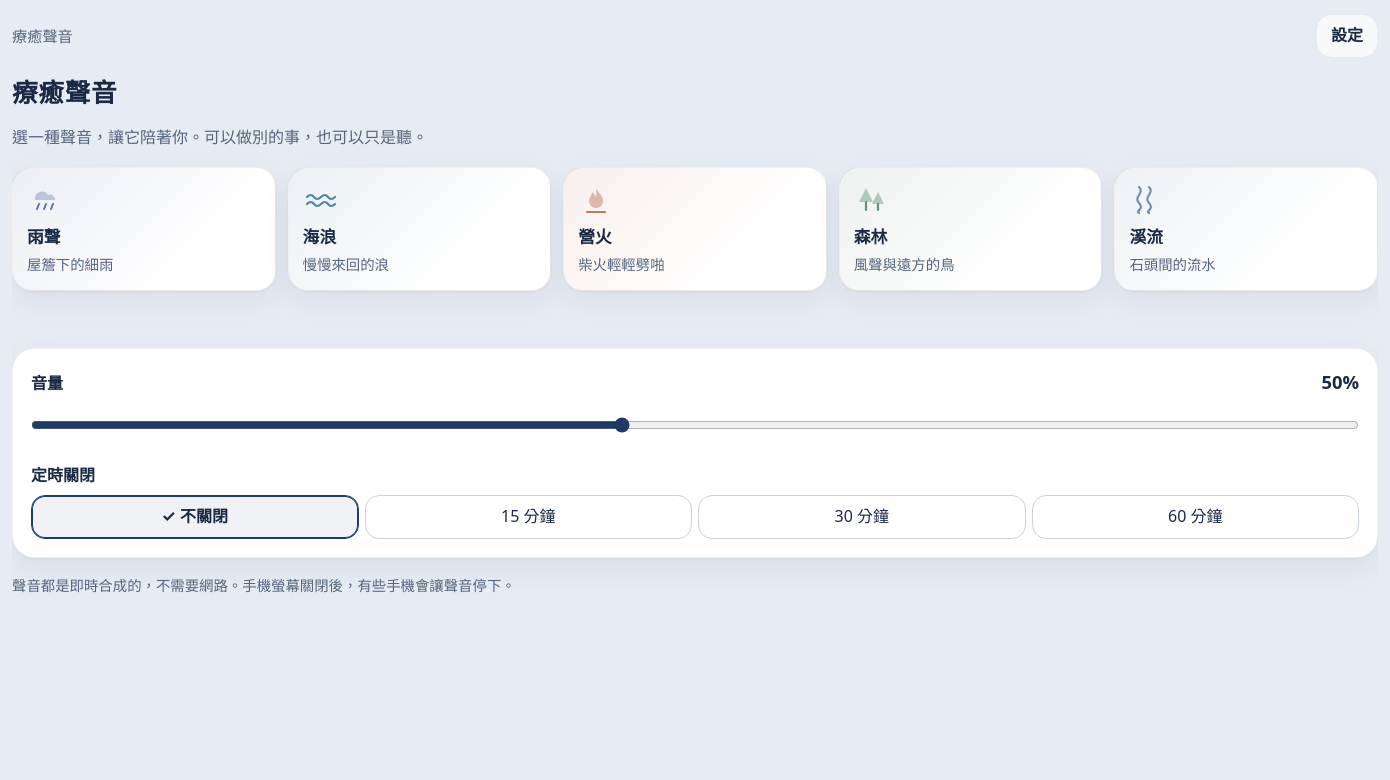
it: 療癒聲音 › 點一下播放、再點一下停止；換聲音會先停掉舊的
Click the button "雨聲 屋簷下的細雨" at x=45, y=200, box [12,167,276,291]
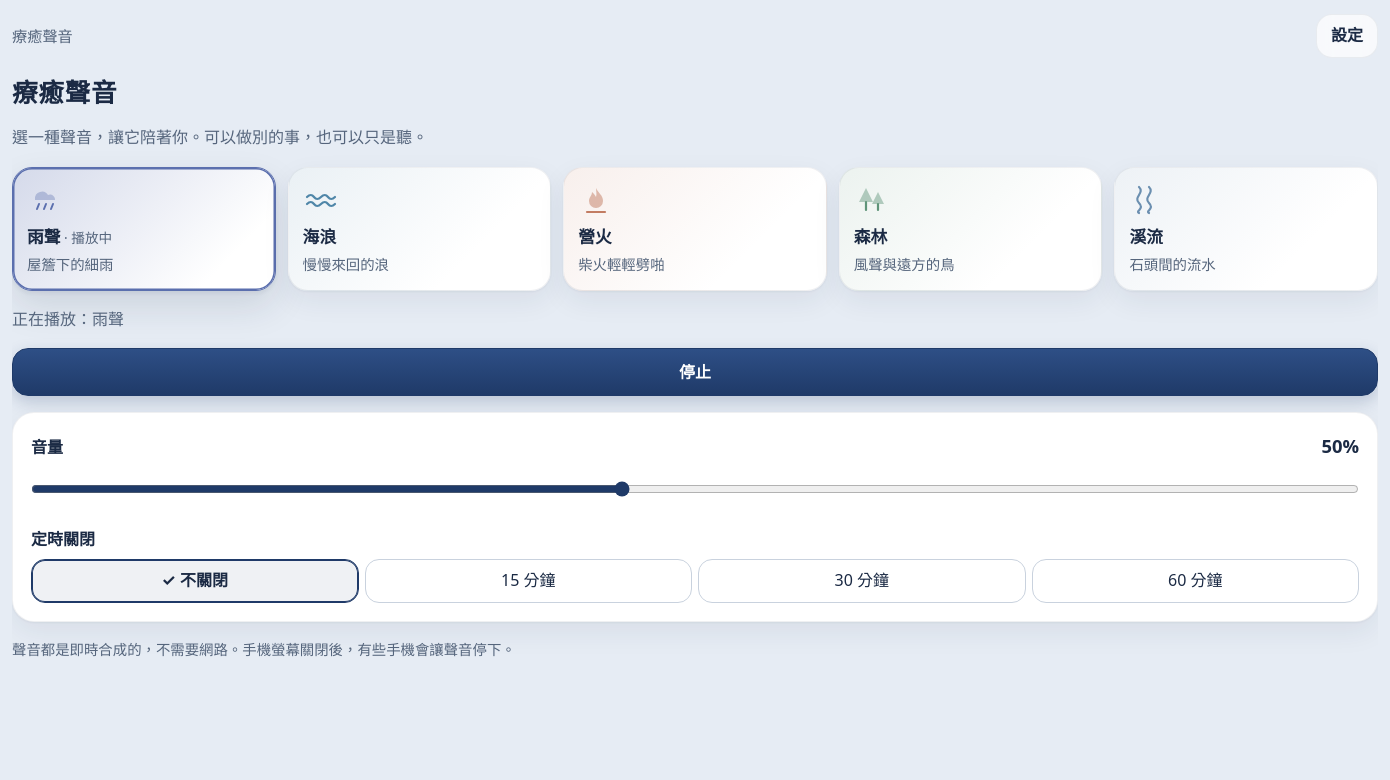
Now the button "雨聲 屋簷下的細雨" is pressed, box [12,167,276,291]
Click the button "海浪 慢慢來回的浪" at x=321, y=200, box [288,167,551,291]
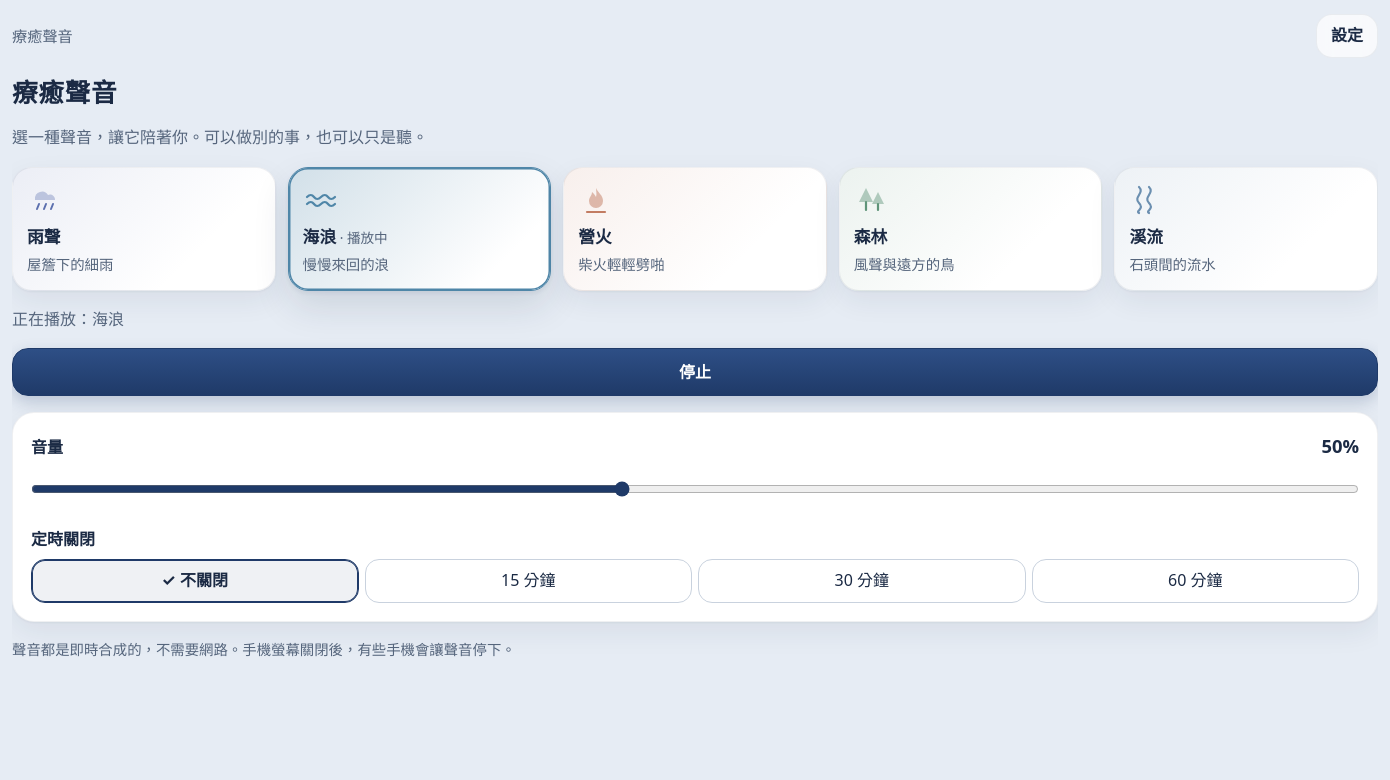
Now the button "雨聲 屋簷下的細雨" is not pressed, box [12,167,276,291]
Click the button "海浪 慢慢來回的浪" at x=321, y=200, box [288,167,551,291]
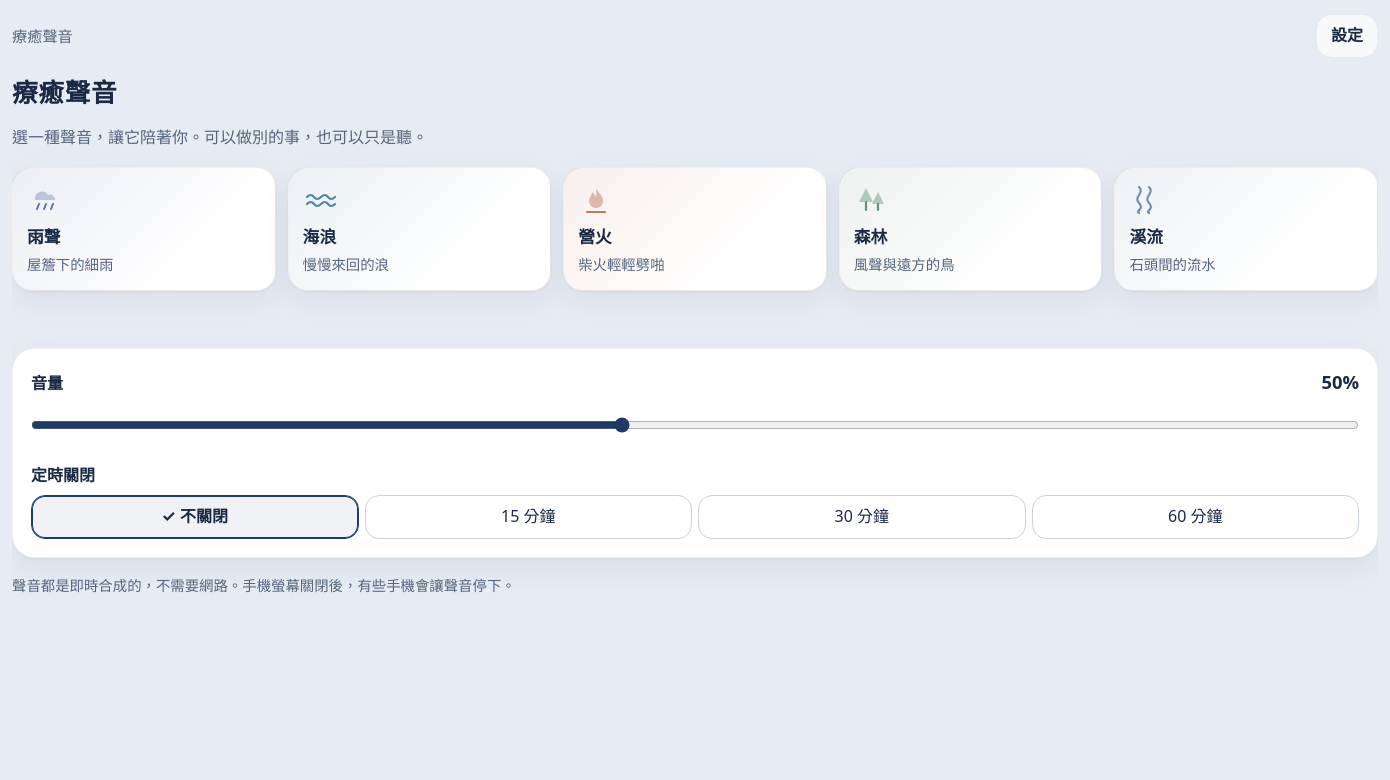
Now the button "停止" is gone
